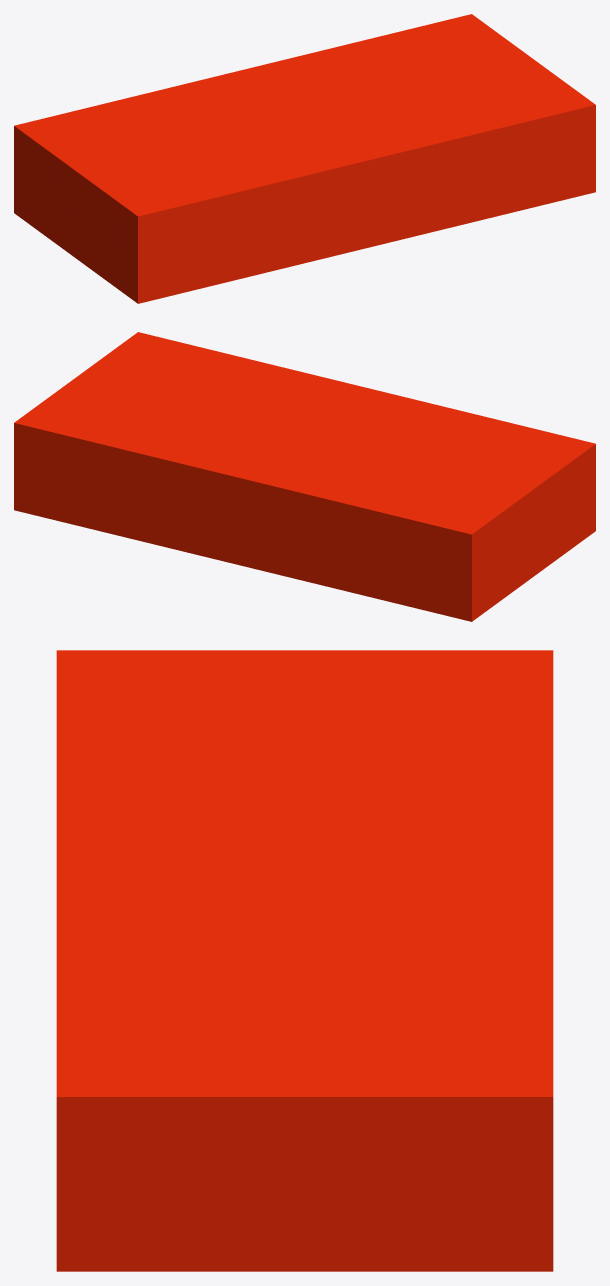
The model's file is Lava.FBX.
3 renders of one model, top to bottom at view 1: azimuth 30°, elevation 25°; view 2: azimuth 150°, elevation 25°; view 3: azimuth 270°, elevation 25°, orthographic. The views are drawn at different scales.
Visible parts, largest first — view 1: Box006; view 2: Box006; view 3: Box006.
Boxes of the visible parts, x1,y1,x2,y2 form: Box006: (14, 14, 595, 303); Box006: (14, 332, 595, 621); Box006: (56, 650, 553, 1271).
Bounding box in the file's own units: 2350 × 1104 × 429.
